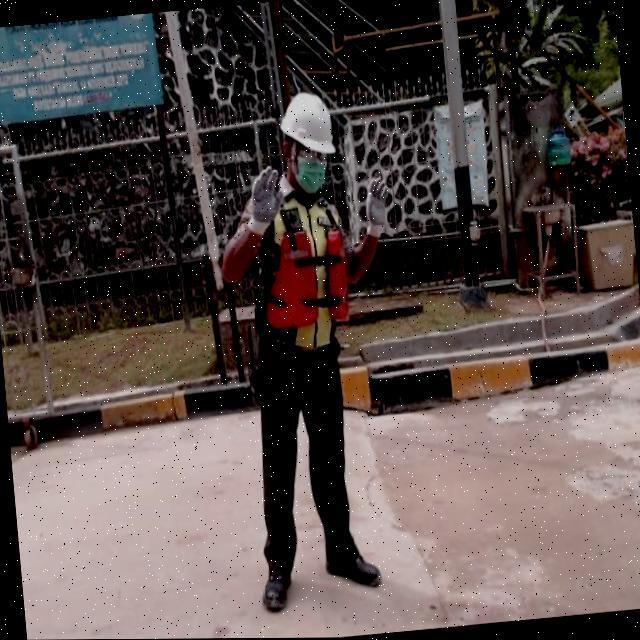goggles_on: (282, 140, 337, 166)
